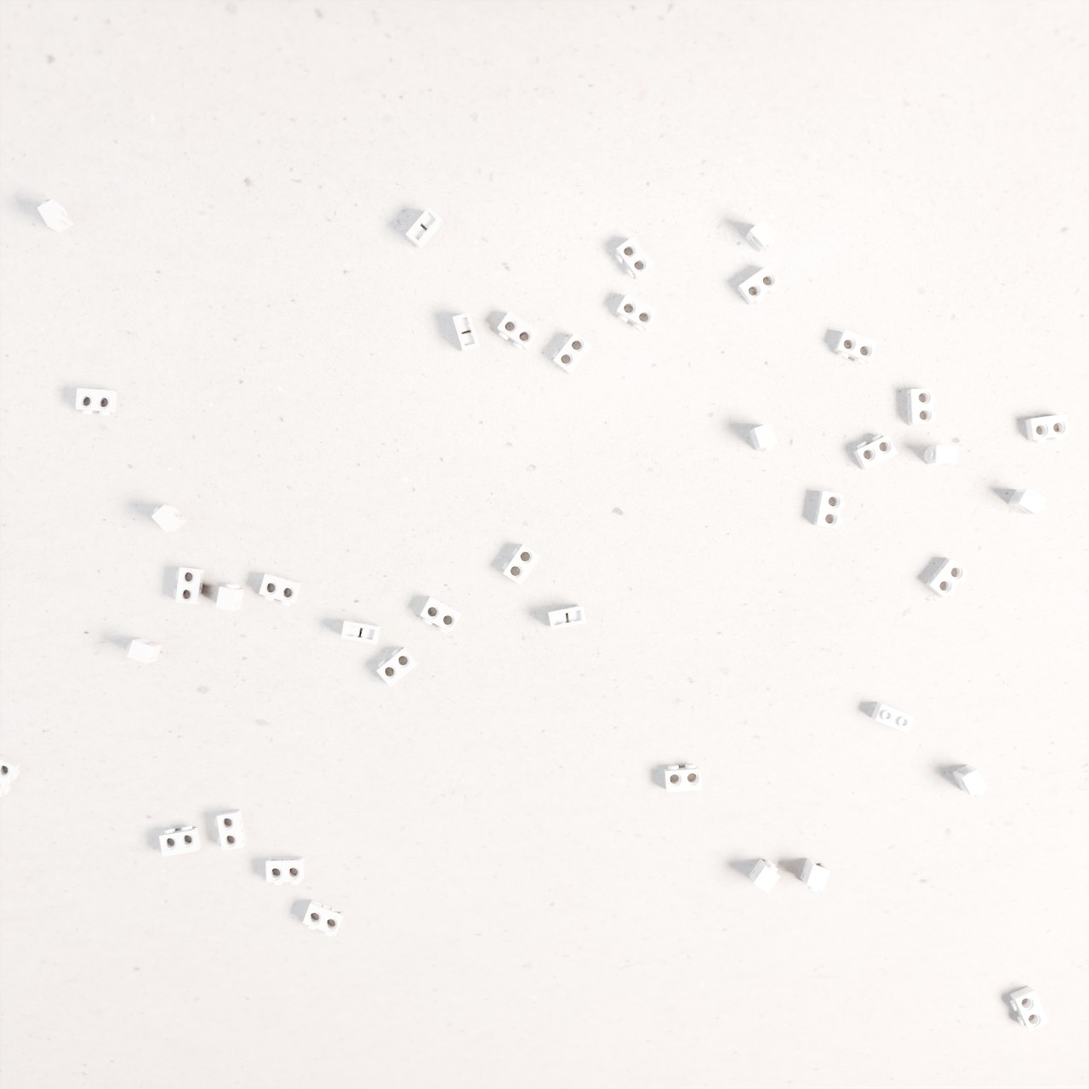lego: (925, 558, 969, 598), (1010, 986, 1049, 1031), (737, 265, 780, 305), (615, 236, 654, 280), (377, 647, 419, 687), (553, 332, 592, 375), (405, 207, 443, 250), (853, 434, 898, 470), (497, 311, 538, 350), (616, 293, 658, 331), (834, 329, 878, 365), (502, 544, 540, 585), (420, 596, 462, 633), (303, 899, 345, 936), (259, 573, 302, 606), (871, 702, 915, 733), (159, 825, 201, 857), (1025, 414, 1069, 444), (215, 810, 246, 851), (37, 199, 74, 233), (452, 312, 481, 354), (814, 491, 846, 529), (952, 764, 988, 797), (76, 388, 117, 416), (174, 567, 204, 605), (745, 218, 777, 253), (907, 388, 936, 426), (749, 859, 780, 894), (266, 857, 304, 885), (664, 764, 702, 792), (151, 504, 187, 533), (1008, 488, 1046, 515), (801, 858, 830, 892), (341, 620, 381, 644), (548, 605, 586, 630), (126, 638, 162, 664), (749, 423, 778, 453), (0, 755, 20, 798), (216, 583, 244, 611), (924, 445, 958, 465)
